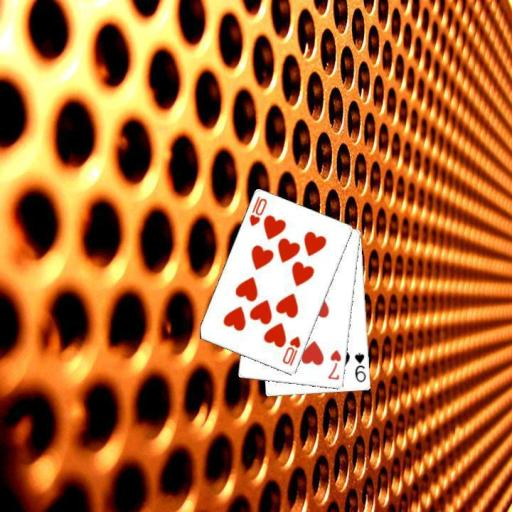card-corner: (246, 194, 269, 228), (280, 334, 302, 368), (325, 347, 343, 382), (352, 350, 368, 384)
